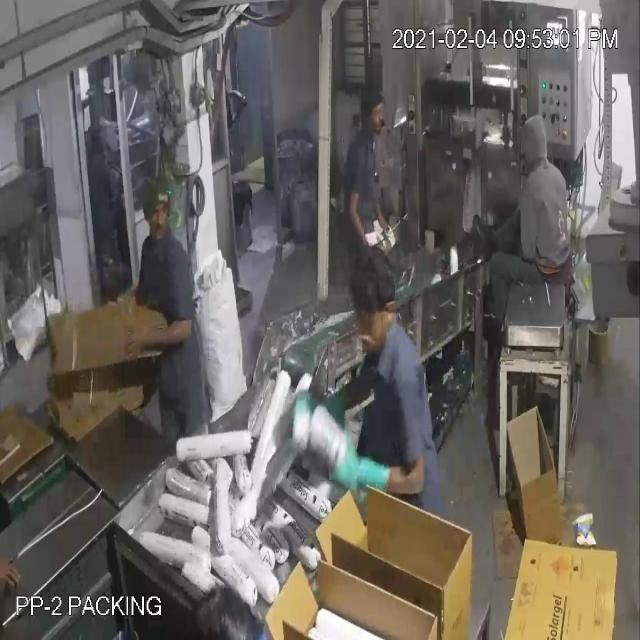No_Gloves: (22, 49, 364, 462)
